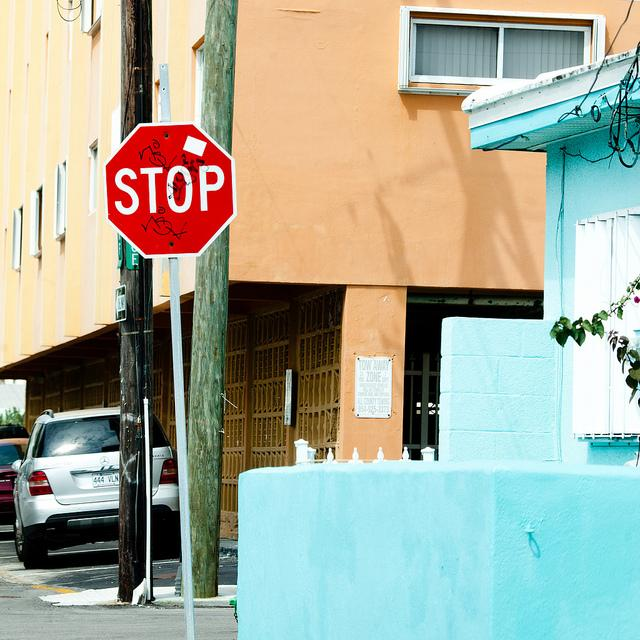Vehicle: (12, 407, 180, 570), (1, 442, 25, 526)
